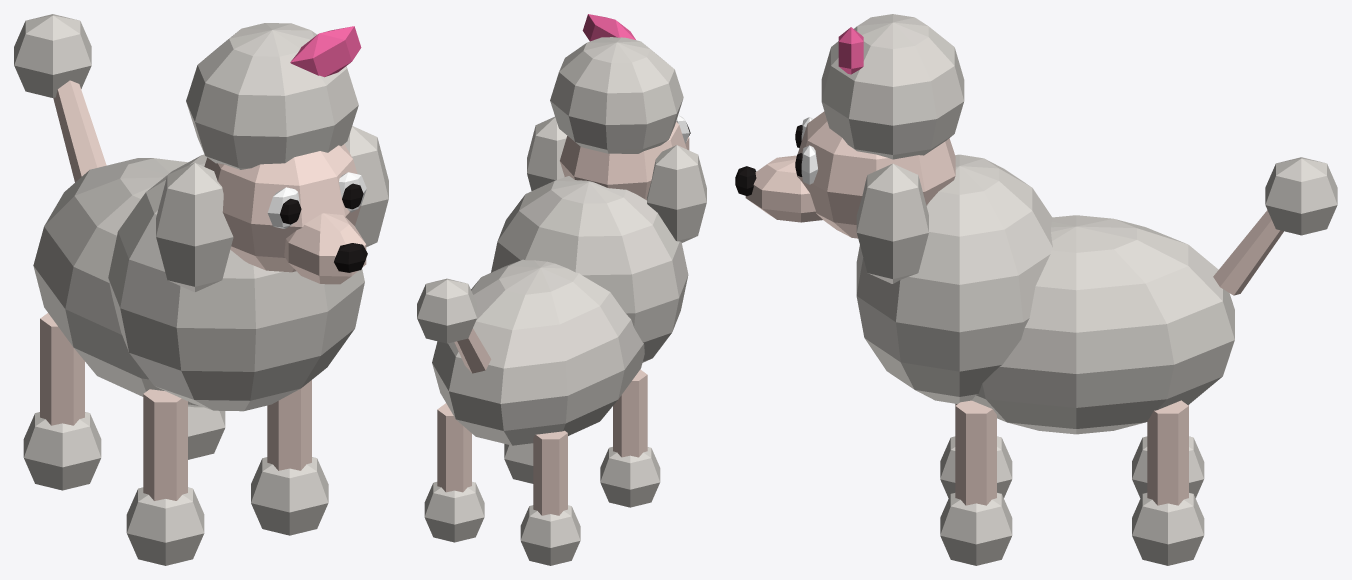
File: dog_poodle.glb
3 views of the same model, side by side, from view 1: azimuth 30°, elevation 25°; view 2: azimuth 150°, elevation 25°; view 3: azimuth 270°, elevation 25° (orthographic). The views are drawn at different scales.
Parts seen in each view (by area): view 1: body_poodle_fur, head_poodle_fur, legs_poodle_fur, head_poodle_skin, legs_poodle_skin, ears_poodle_fur, tail_poodle_fur, tail_poodle_skin, head_poodle_bow, head_dog_black, head_dog_eye; view 2: body_poodle_fur, head_poodle_fur, legs_poodle_fur, legs_poodle_skin, ears_poodle_fur, head_poodle_skin, tail_poodle_fur, tail_poodle_skin, head_poodle_bow; view 3: body_poodle_fur, head_poodle_fur, legs_poodle_fur, head_poodle_skin, legs_poodle_skin, ears_poodle_fur, tail_poodle_fur, tail_poodle_skin, head_poodle_bow, head_dog_black.
Boxes of the visible parts, box(x1,y1,x2,y2) form: body_poodle_fur: box(33, 154, 364, 411); head_poodle_fur: box(186, 23, 358, 169); legs_poodle_fur: box(23, 406, 328, 565); head_poodle_skin: box(204, 144, 366, 284); legs_poodle_skin: box(40, 313, 311, 500); ears_poodle_fur: box(156, 126, 388, 292); tail_poodle_fur: box(14, 14, 91, 97); tail_poodle_skin: box(53, 80, 106, 182); head_poodle_bow: box(290, 26, 361, 77); head_dog_black: box(280, 183, 367, 272); head_dog_eye: box(267, 172, 366, 228); body_poodle_fur: box(432, 176, 688, 445); head_poodle_fur: box(550, 37, 683, 153); legs_poodle_fur: box(424, 444, 660, 565); legs_poodle_skin: box(437, 369, 647, 515); ears_poodle_fur: box(527, 116, 706, 242); head_poodle_skin: box(560, 121, 689, 199); tail_poodle_fur: box(417, 278, 476, 343); tail_poodle_skin: box(454, 328, 491, 373); head_poodle_bow: box(582, 14, 635, 41); body_poodle_fur: box(856, 154, 1234, 434); head_poodle_fur: box(821, 14, 964, 159); legs_poodle_fur: box(940, 436, 1204, 565); head_poodle_skin: box(745, 111, 955, 238); legs_poodle_skin: box(955, 400, 1188, 505); ears_poodle_fur: box(856, 163, 928, 283); tail_poodle_fur: box(1265, 157, 1337, 235); tail_poodle_skin: box(1213, 210, 1283, 295); head_poodle_bow: box(838, 27, 863, 74); head_dog_black: box(735, 125, 802, 195).
Bounding box in the file's own units: 0.3 × 0.6887 × 0.7222.
